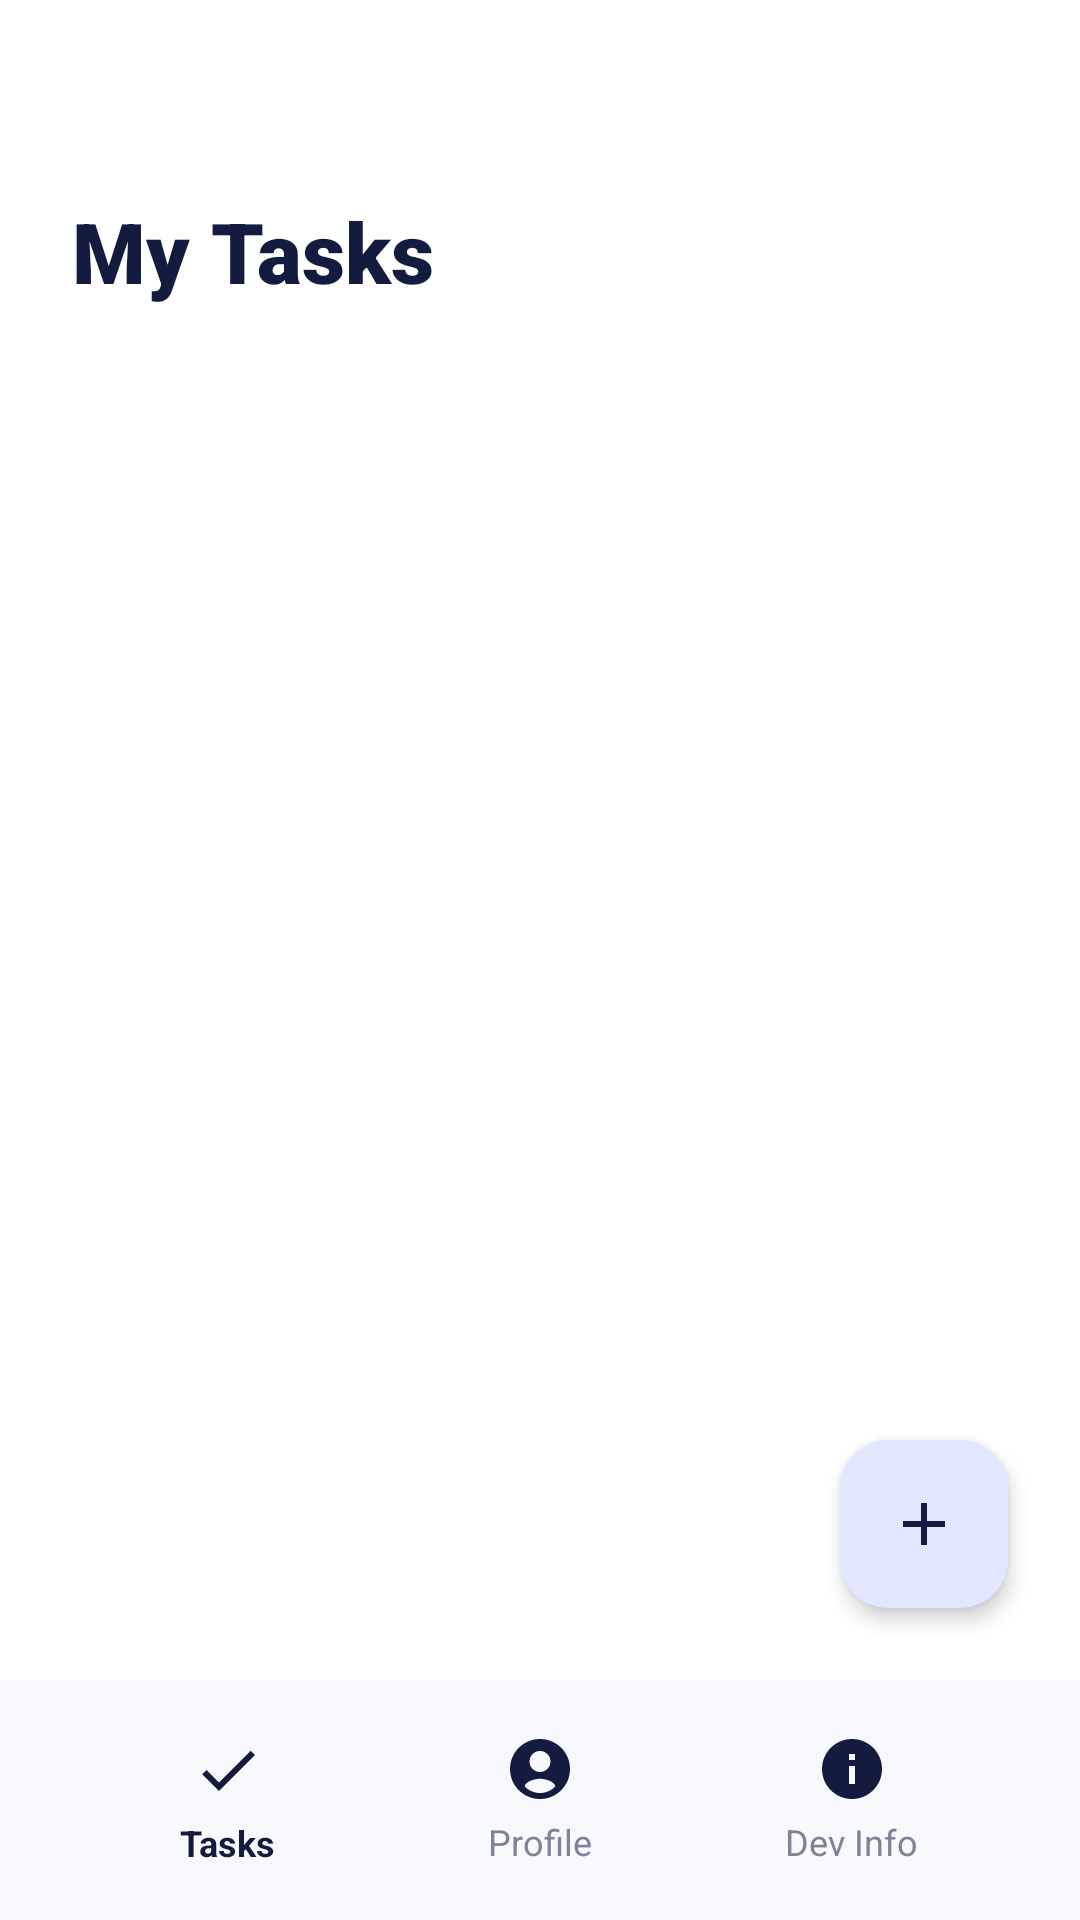

Icons on this 1080px×1920px Android screen, each with the point to tap as [x,y]:
add: [924,1524]
checkmark: [228,1771]
